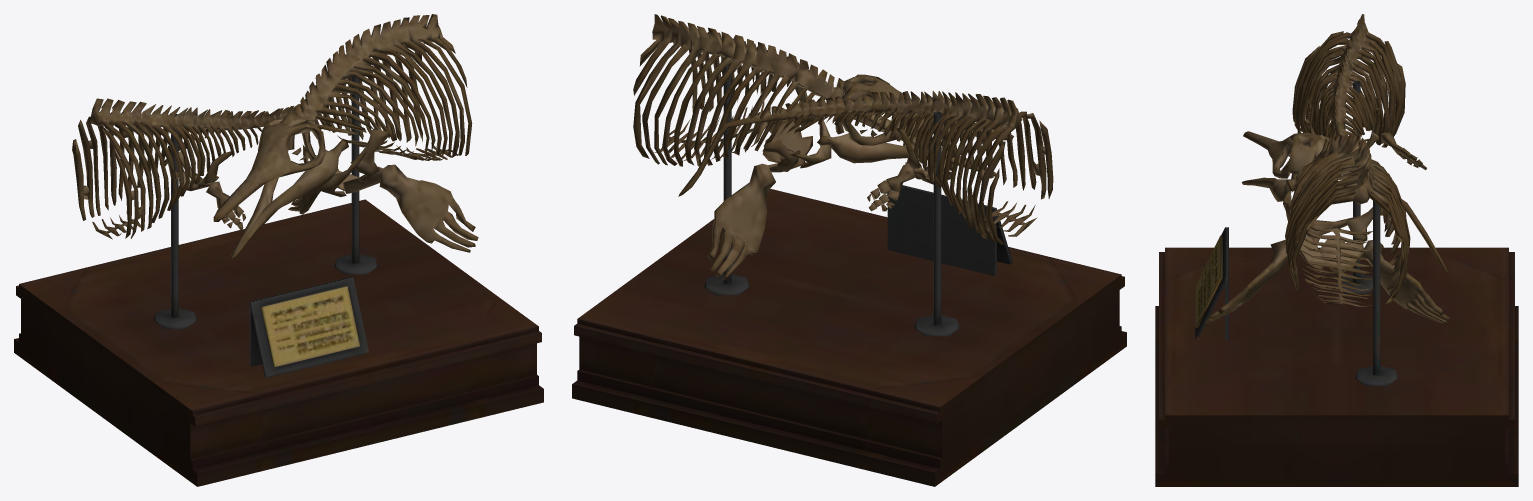
File: fossil-ophthalmo.glb
3 views of the same model, side by side, from view 1: azimuth 30°, elevation 25°; view 2: azimuth 150°, elevation 25°; view 3: azimuth 270°, elevation 25° (orthographic). The views are drawn at different scales.
Visible parts, largest first — view 1: mFossilBaseEnd (×2), mFtrFossilOphthalmosaurusA, mFtrFossilOphthalmosaurusB; view 2: mFossilBaseEnd (×2), mFtrFossilOphthalmosaurusA, mFtrFossilOphthalmosaurusB; view 3: mFossilBaseEnd (×2), mFtrFossilOphthalmosaurusA, mFtrFossilOphthalmosaurusB.
Part boxes in pixels (x1,y1,x2,y2): mFossilBaseEnd (×2): [14, 76, 543, 486]; mFtrFossilOphthalmosaurusA: [213, 14, 478, 259]; mFtrFossilOphthalmosaurusB: [72, 98, 329, 239]; mFossilBaseEnd (×2): [572, 64, 1126, 486]; mFtrFossilOphthalmosaurusA: [633, 14, 1013, 279]; mFtrFossilOphthalmosaurusB: [678, 91, 1053, 244]; mFossilBaseEnd (×2): [1155, 81, 1518, 486]; mFtrFossilOphthalmosaurusA: [1205, 131, 1449, 324]; mFtrFossilOphthalmosaurusB: [1291, 14, 1448, 273].
Size of the model in its own units: 20.02 by 17.25 by 18.33.
Materials: 4 (4 with a texture image).
